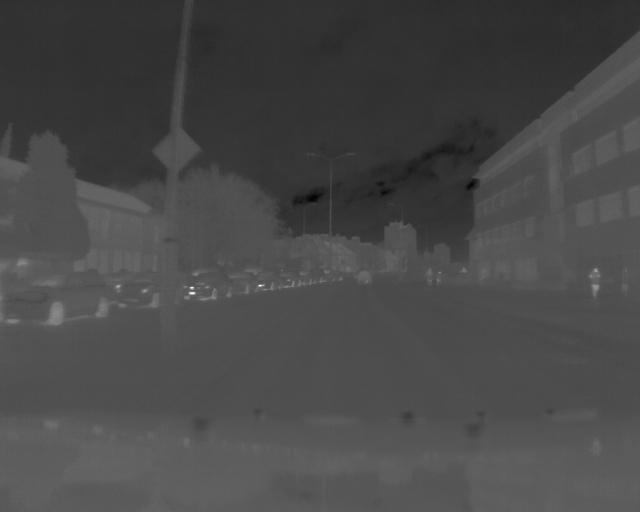car: (2, 271, 112, 325), (115, 270, 162, 311), (182, 272, 233, 303)
person: (588, 263, 603, 302)
